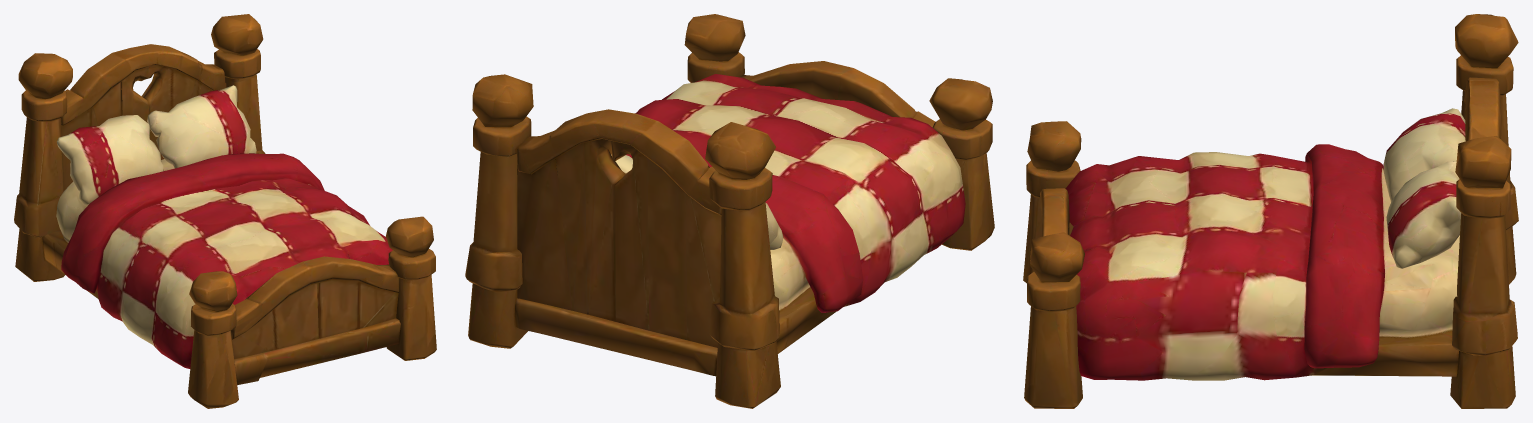
The model's file is lit.glb.
The picture shows the model from 3 angles, left to right: view 1: azimuth 30°, elevation 25°; view 2: azimuth 150°, elevation 25°; view 3: azimuth 270°, elevation 25°; orthographic projection. The views are drawn at different scales.
Visible parts, largest first — view 1: geometry_0; view 2: geometry_0; view 3: geometry_0.
Boxes of the visible parts, left/top/right/bottom form: geometry_0: left=14, top=14, right=436, bottom=408; geometry_0: left=465, top=14, right=994, bottom=408; geometry_0: left=1023, top=14, right=1518, bottom=408.
Size of the model in its own units: 0.7065 by 0.5664 by 0.9561.
Materials: 1 (1 with a texture image).
